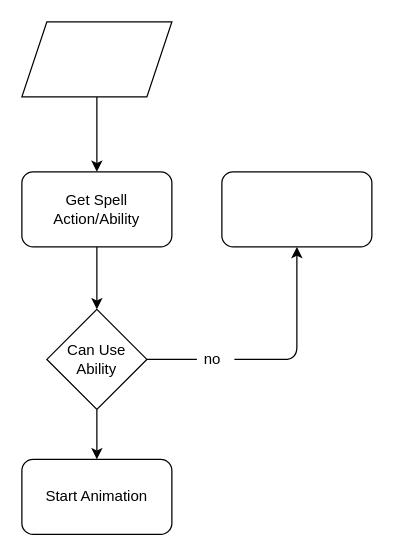
Some shapes in this 394 by 556 pixel diagram are drawn without their labels. The shapes that lost their labels are listed below. From the top down, each one's centre as x and y in pixels, then its label:
At point (96, 59): "User Input".
At point (296, 209): "Send Warning".
